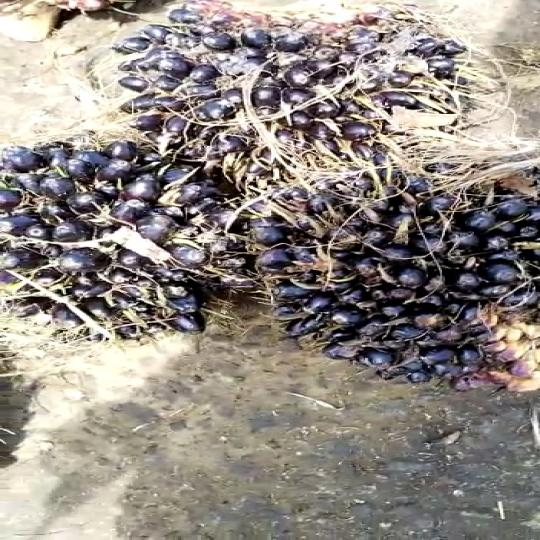mentah: (221, 154, 540, 391), (0, 129, 318, 356), (105, 0, 482, 174)
